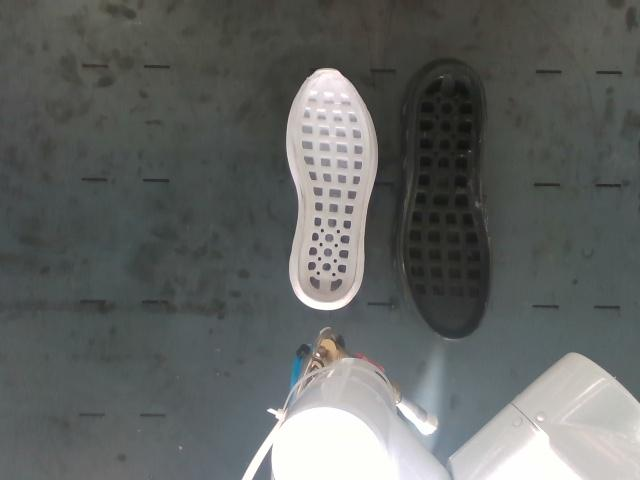shoes: (403, 65, 492, 338), (290, 69, 370, 302)
